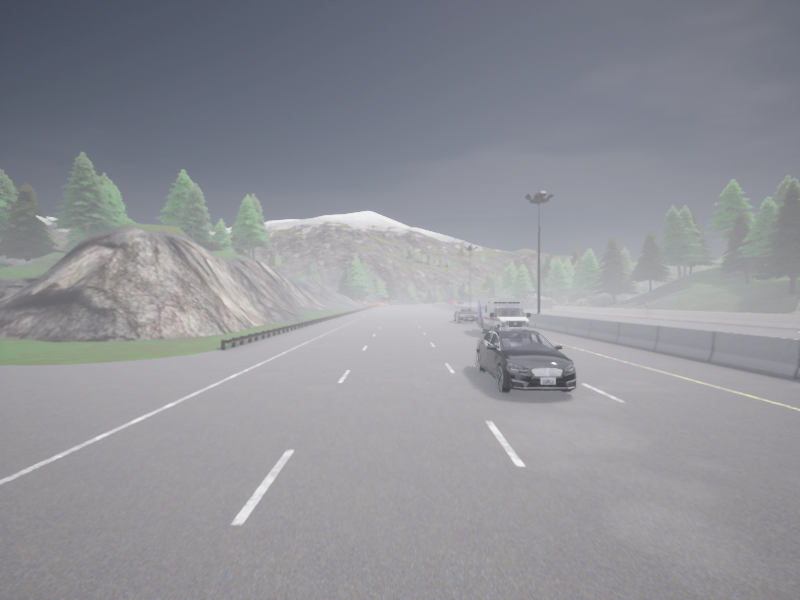vehicle: (475, 329, 575, 392), (477, 300, 530, 333), (454, 307, 477, 323), (449, 300, 455, 304), (458, 301, 464, 304)
